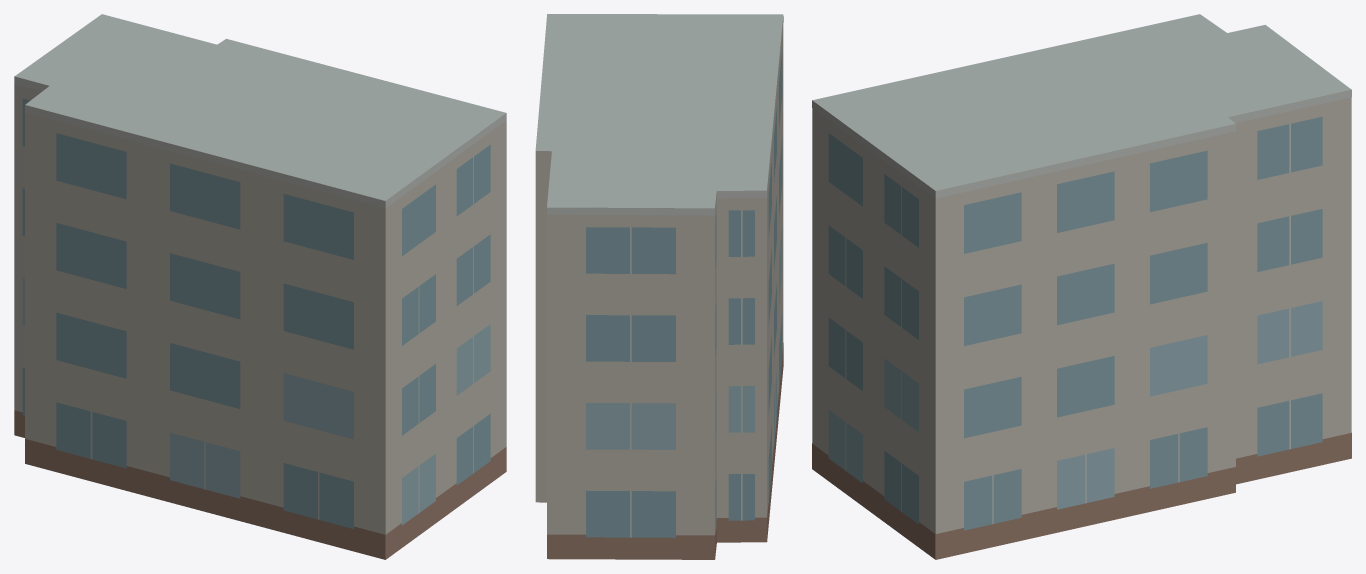
File: survey-upis-32712829.glb
3 renders of one model, left to right at view 1: azimuth 30°, elevation 25°; view 2: azimuth 150°, elevation 25°; view 3: azimuth 270°, elevation 25°, orthographic. The views are drawn at different scales.
Visible parts, largest first — view 1: survey-upis-32712829.tmp; view 2: survey-upis-32712829.tmp; view 3: survey-upis-32712829.tmp.
Boxes of the visible parts, <box> form: survey-upis-32712829.tmp: <box>14,14,506,559</box>; survey-upis-32712829.tmp: <box>535,14,783,559</box>; survey-upis-32712829.tmp: <box>812,14,1351,559</box>.
Size of the model in its own units: 12.26 by 11.9 by 15.79.
